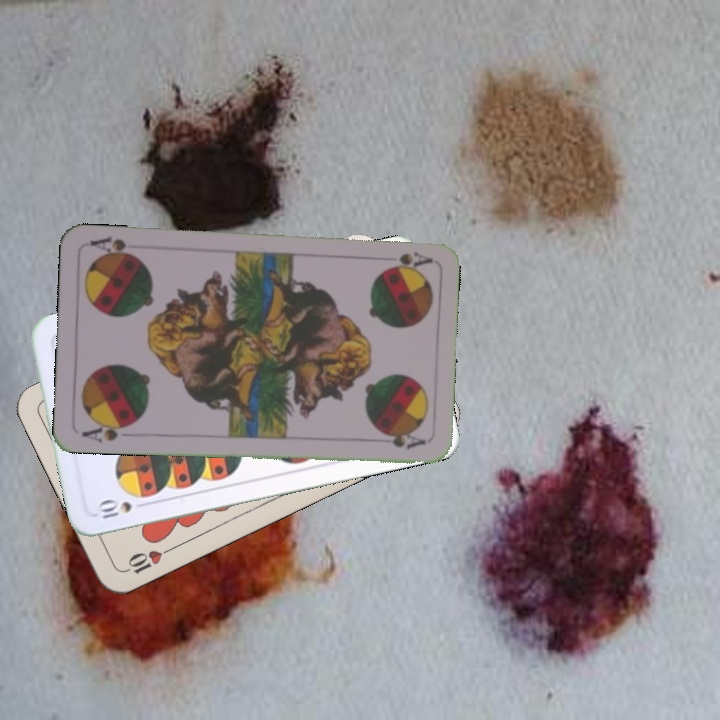H10: (120, 543, 176, 577)
S10: (93, 497, 134, 521)
SA: (78, 418, 137, 445), (384, 248, 434, 271)
